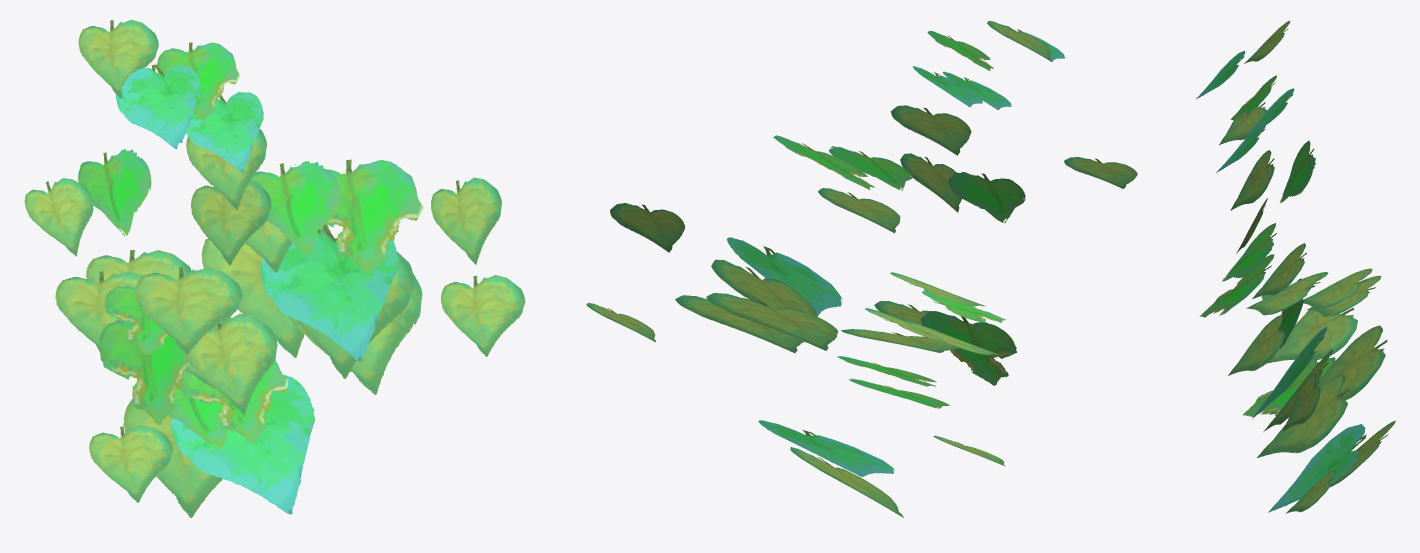
The model's file is IVY01.fbx.
3 renders of one model, left to right at view 1: azimuth 30°, elevation 25°; view 2: azimuth 150°, elevation 25°; view 3: azimuth 270°, elevation 25°, orthographic. The views are drawn at different scales.
Visible parts, largest first — view 1: IvyLeaf.001; view 2: IvyLeaf.001; view 3: IvyLeaf.001.
Boxes of the visible parts, <box> form: IvyLeaf.001: <box>24,19,525,517</box>; IvyLeaf.001: <box>586,21,1137,517</box>; IvyLeaf.001: <box>1196,20,1395,513</box>.
Bounding box in the file's own units: 899 × 842 × 397.
